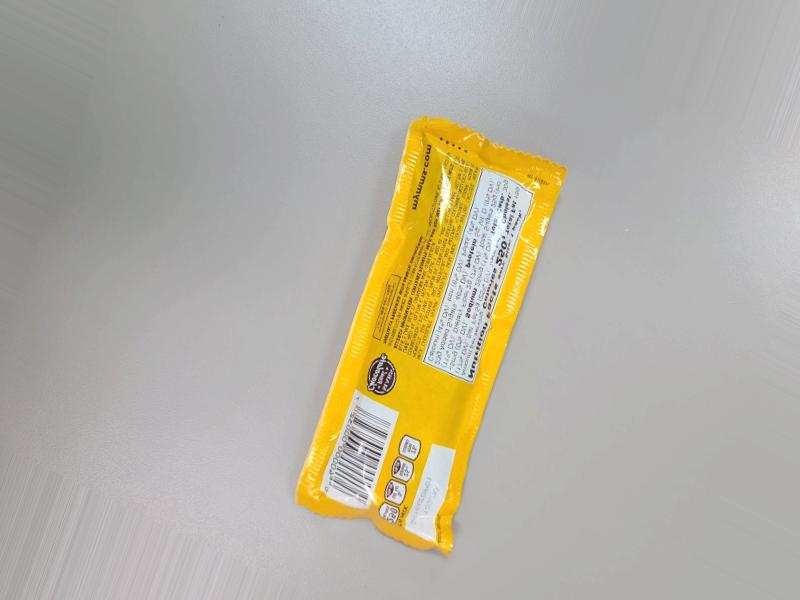m&m: (329, 209, 567, 545)
